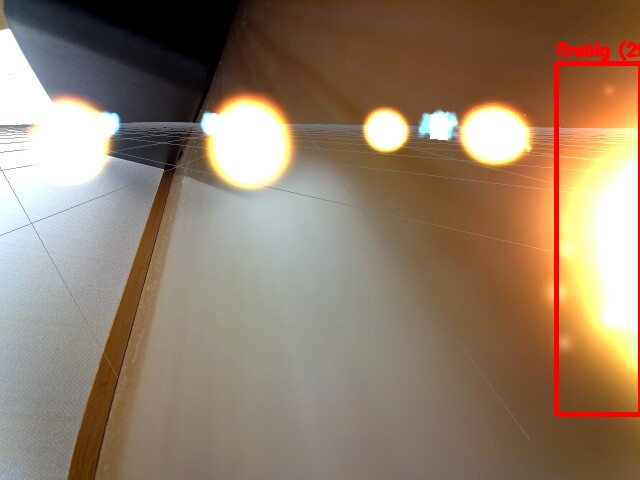firebig: (556, 63, 640, 414)
